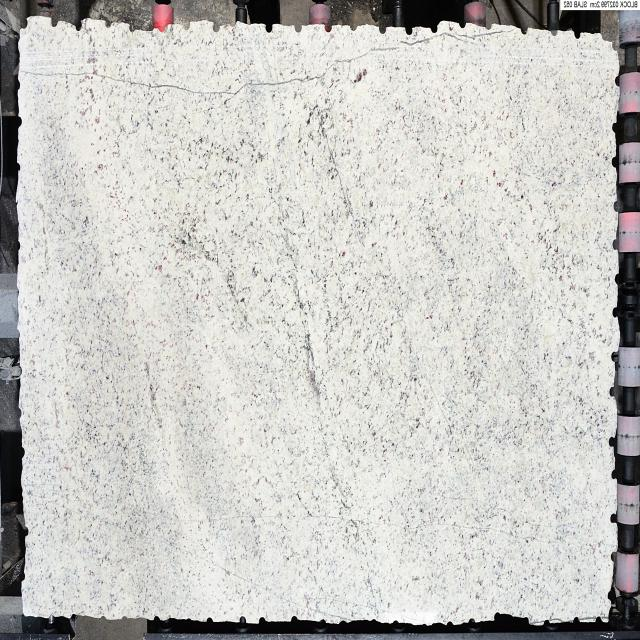chapa: (20, 22, 619, 638)
furo: (596, 28, 624, 61)
veio: (73, 18, 87, 40), (179, 15, 193, 36), (200, 612, 217, 629), (606, 382, 620, 402), (606, 508, 622, 524), (322, 18, 336, 36), (609, 116, 621, 136), (608, 344, 620, 364), (608, 464, 620, 484), (607, 550, 622, 566), (538, 615, 554, 630), (568, 27, 584, 42), (606, 432, 620, 449), (256, 612, 270, 629), (610, 153, 621, 174), (290, 22, 306, 36), (612, 72, 622, 94), (610, 300, 620, 322), (210, 17, 222, 35), (568, 613, 582, 628), (377, 22, 392, 36), (126, 17, 136, 37), (50, 12, 60, 32), (611, 197, 622, 215), (516, 22, 530, 36), (428, 21, 441, 36), (237, 610, 250, 624), (264, 20, 277, 34), (610, 236, 621, 252), (404, 21, 414, 38), (349, 19, 362, 32), (612, 270, 624, 284), (546, 26, 560, 38), (458, 18, 470, 32), (290, 608, 298, 627), (608, 584, 614, 606), (468, 613, 476, 627), (592, 616, 602, 627)
